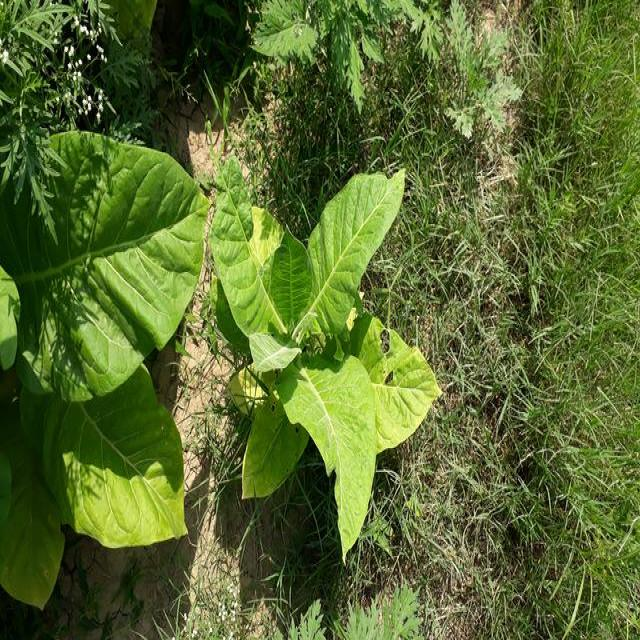crop: (221, 168, 432, 547), (6, 159, 185, 573)
